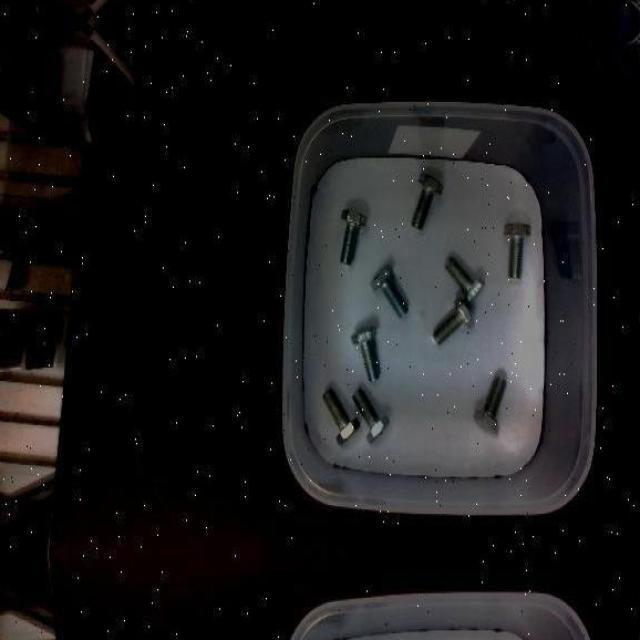screw: (351, 386, 389, 444), (322, 386, 360, 444), (369, 262, 408, 318), (444, 256, 485, 306), (432, 297, 474, 345), (473, 376, 507, 434), (411, 173, 443, 230), (350, 326, 379, 380), (339, 208, 366, 264), (504, 222, 531, 278)
